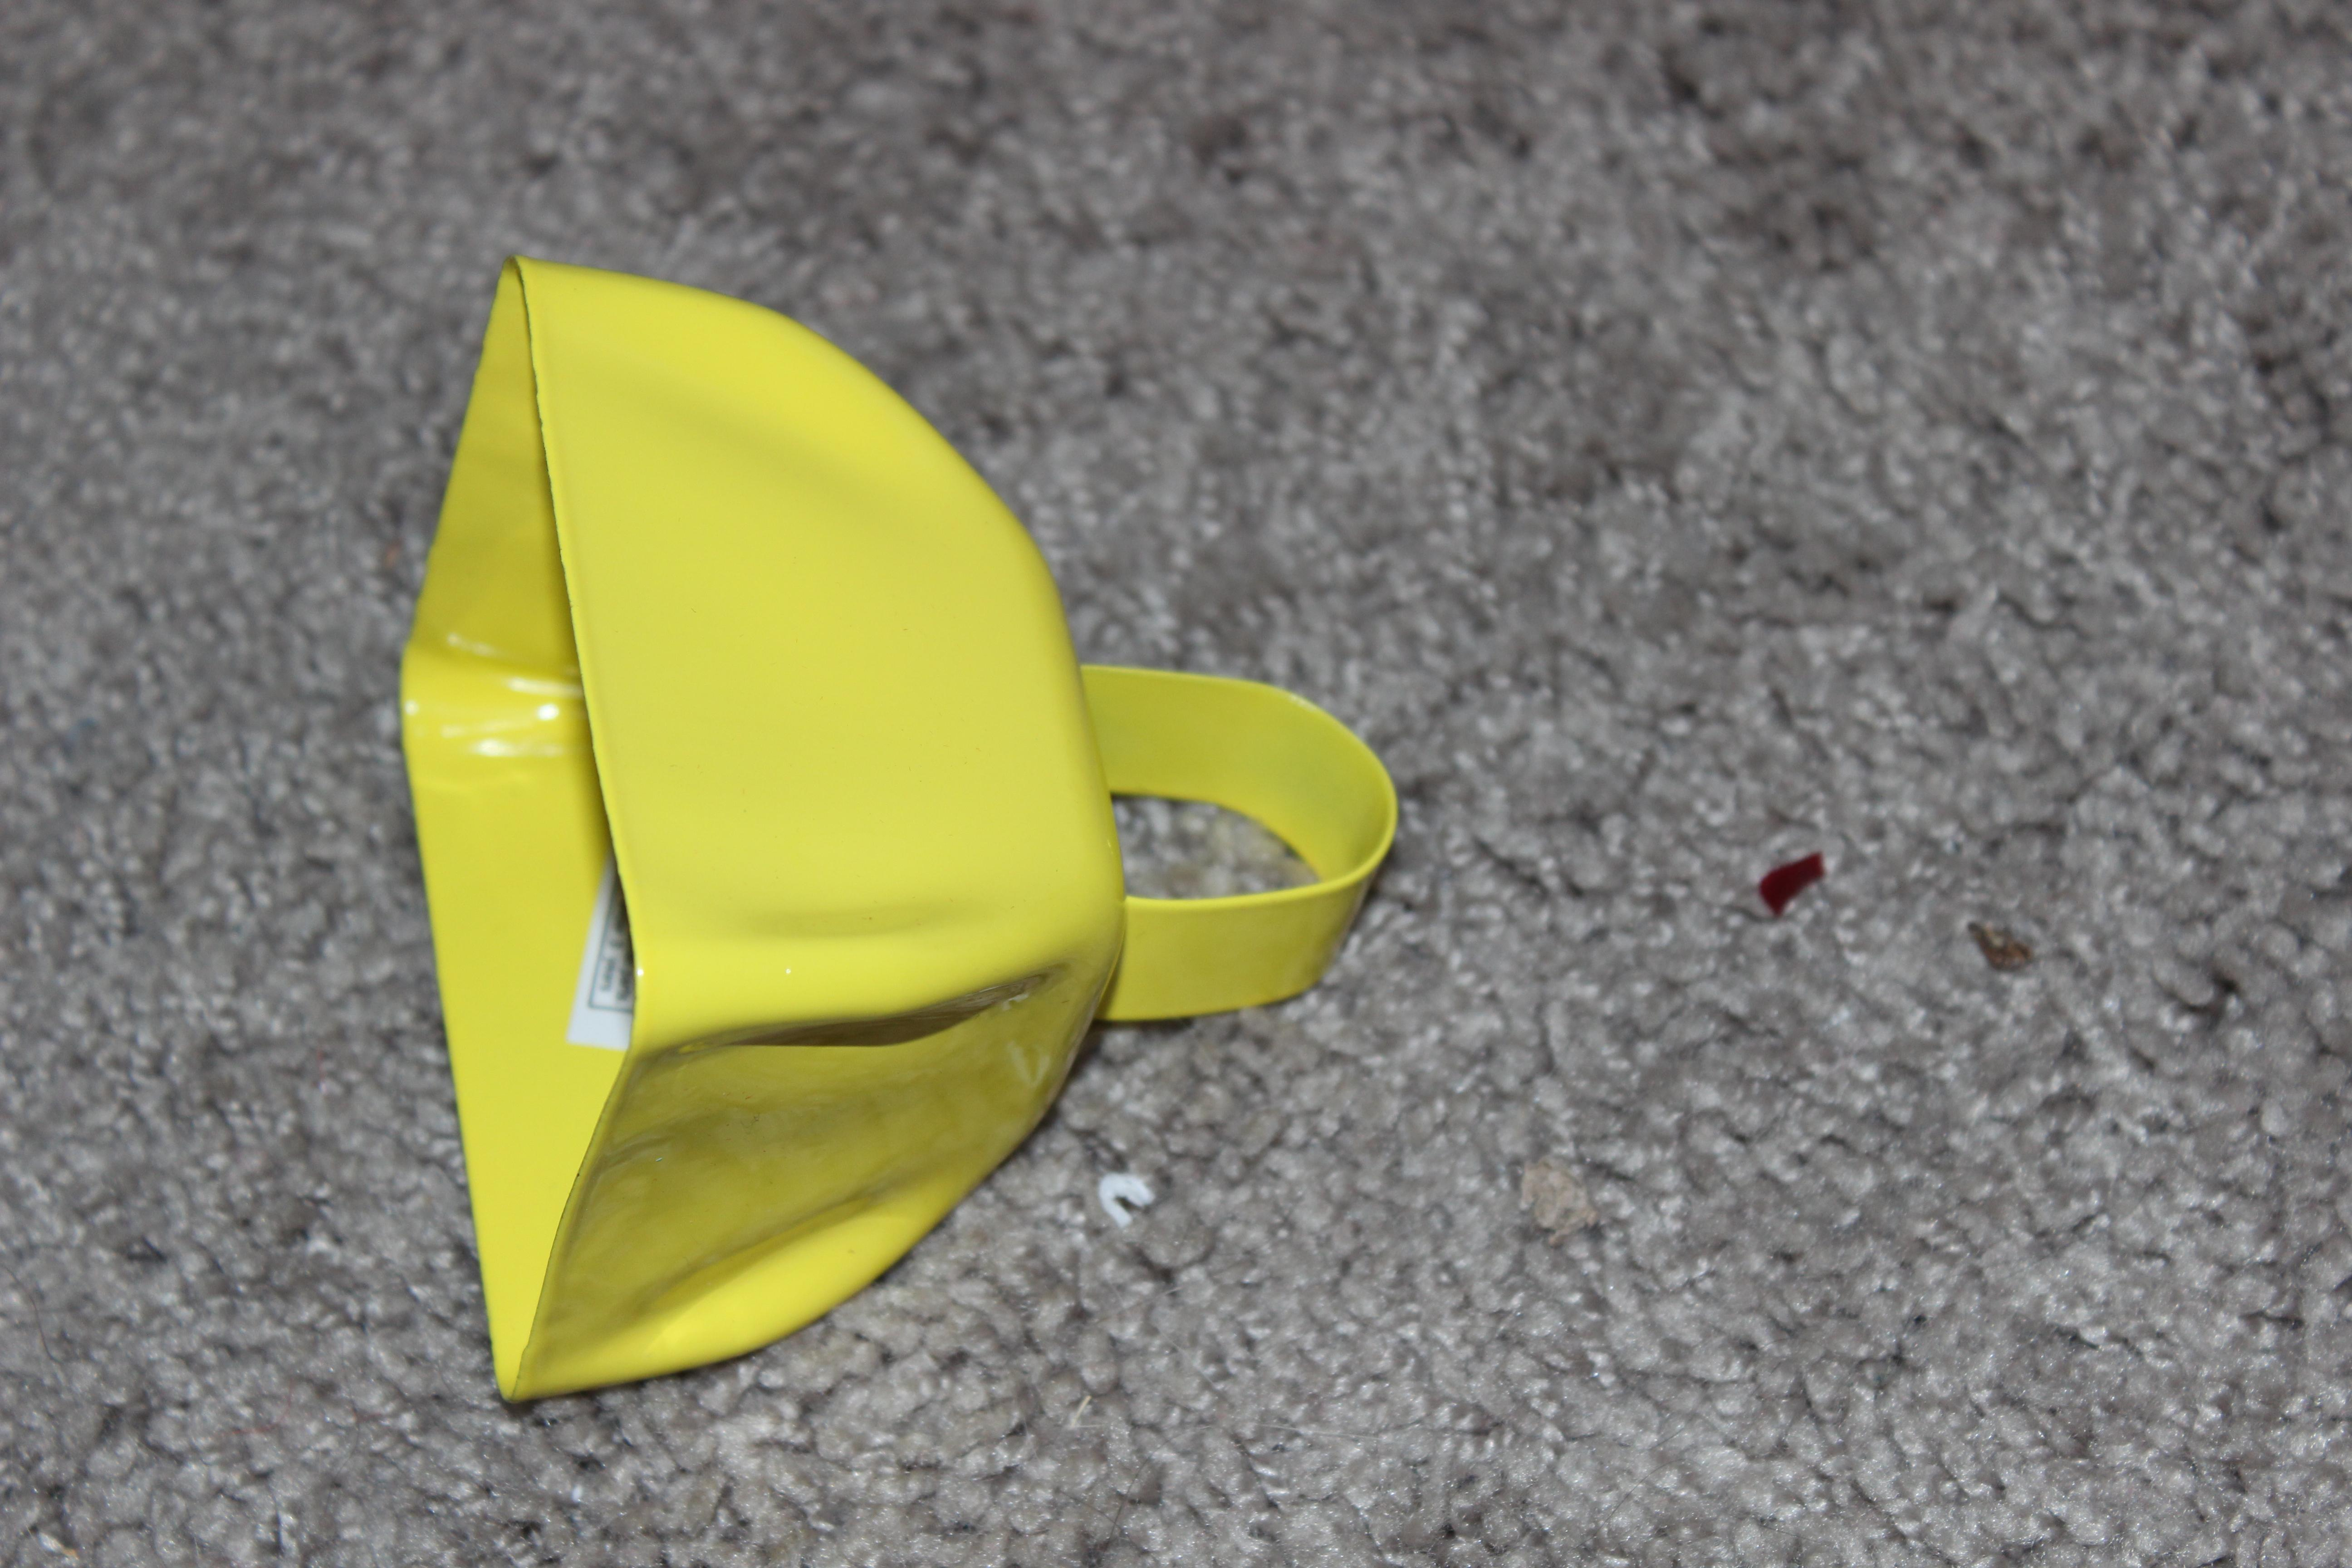cowbell: (357, 222, 1419, 1435)
